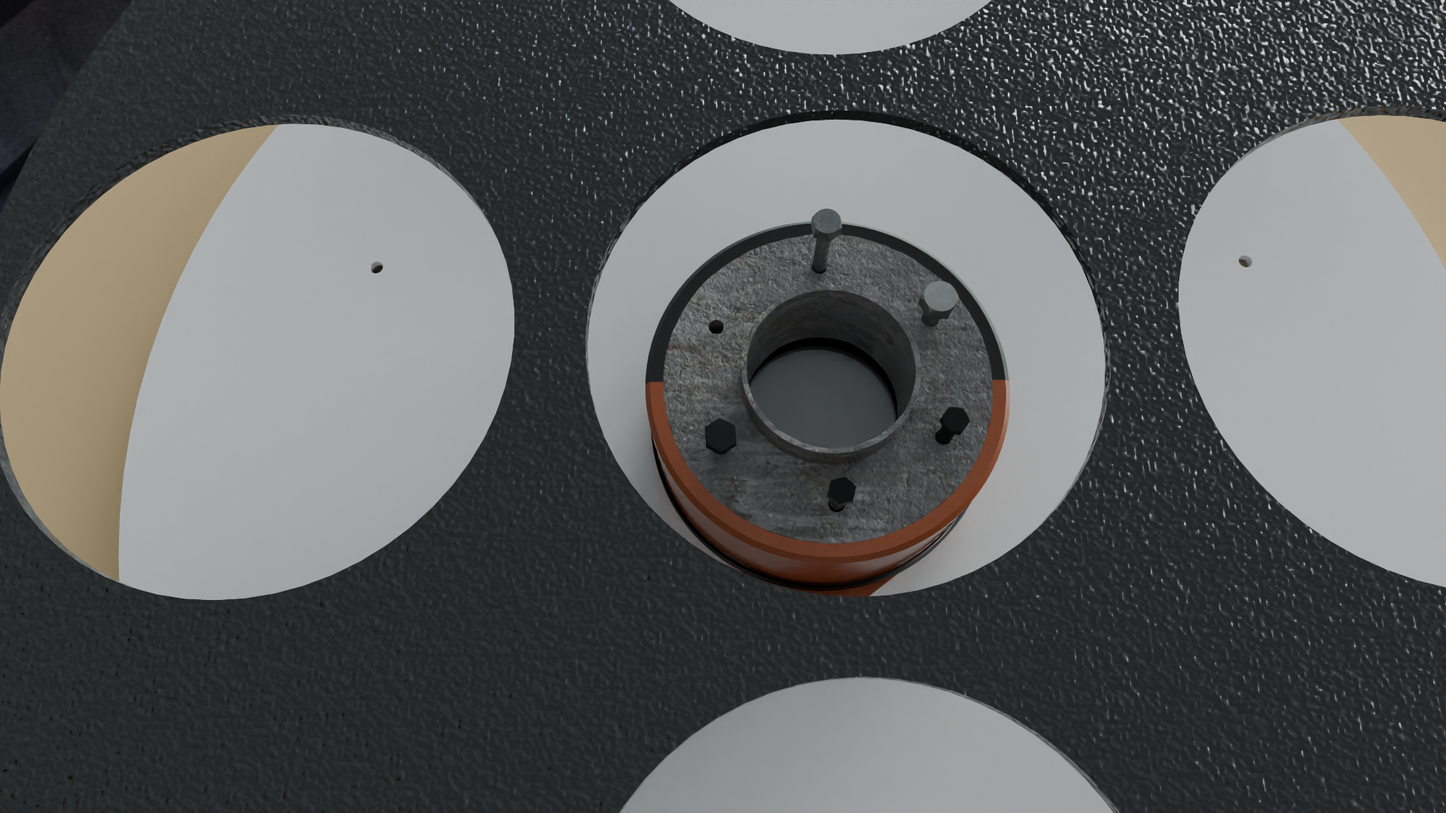bolt: (921, 281, 959, 313), (705, 418, 737, 452), (812, 209, 842, 237), (828, 477, 856, 504), (941, 406, 970, 432)
